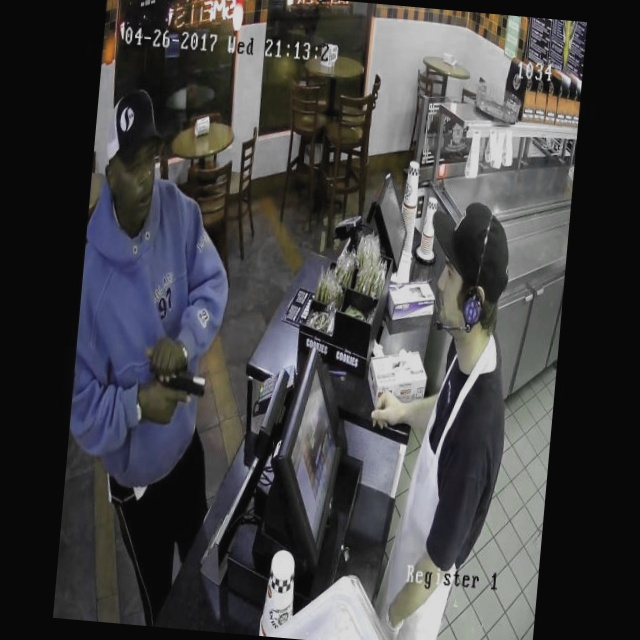gun: (132, 333, 223, 417)
